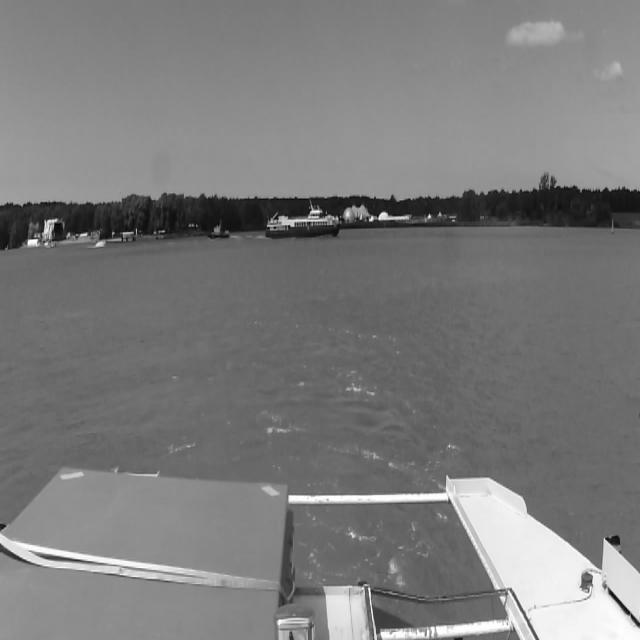ship: (266, 199, 340, 237), (208, 220, 230, 240), (94, 237, 106, 250)
